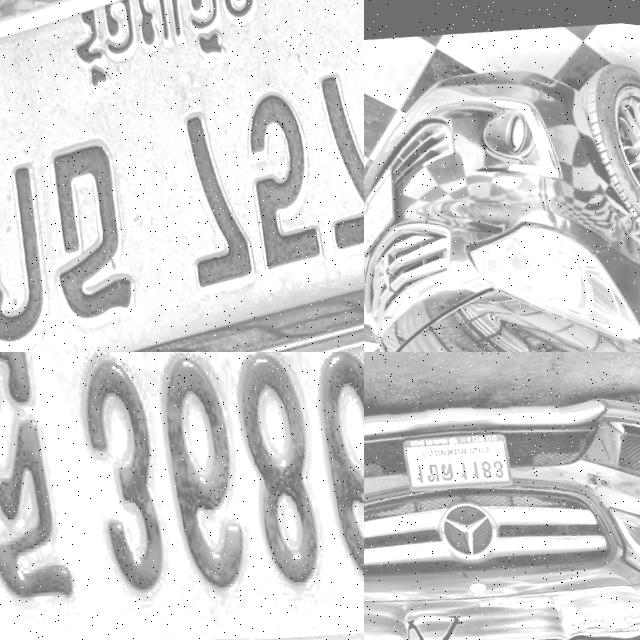license-plate: (0, 0, 364, 352), (0, 352, 364, 640), (400, 412, 516, 495), (364, 154, 409, 261)
